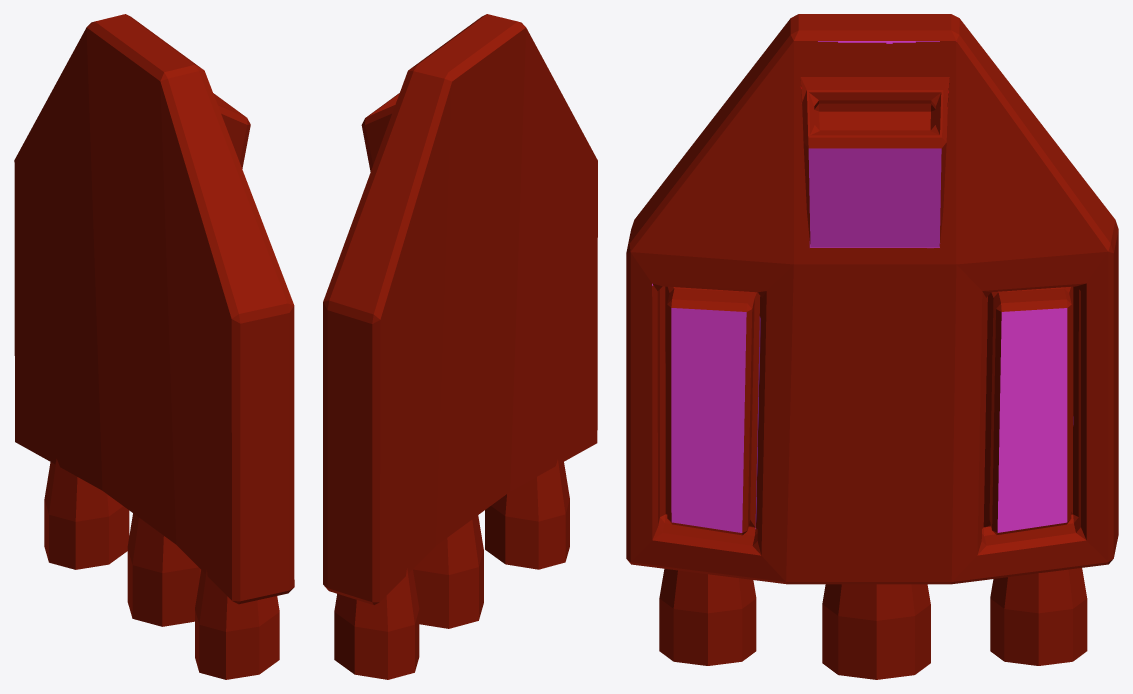
File: RedShip53.fbx
The picture shows the model from 3 angles, left to right: view 1: azimuth 30°, elevation 25°; view 2: azimuth 150°, elevation 25°; view 3: azimuth 270°, elevation 25°; orthographic projection. The views are drawn at different scales.
Visible parts, largest first — view 1: Circle.003; view 2: Circle.003; view 3: Circle.003.
Boxes of the visible parts, x1,y1,x2,y2 form: Circle.003: (14,14,294,679); Circle.003: (323,14,597,679); Circle.003: (626,14,1118,679).
Bounding box in the file's own units: 31.37 × 177 × 125.
1 material, 1 textured.
